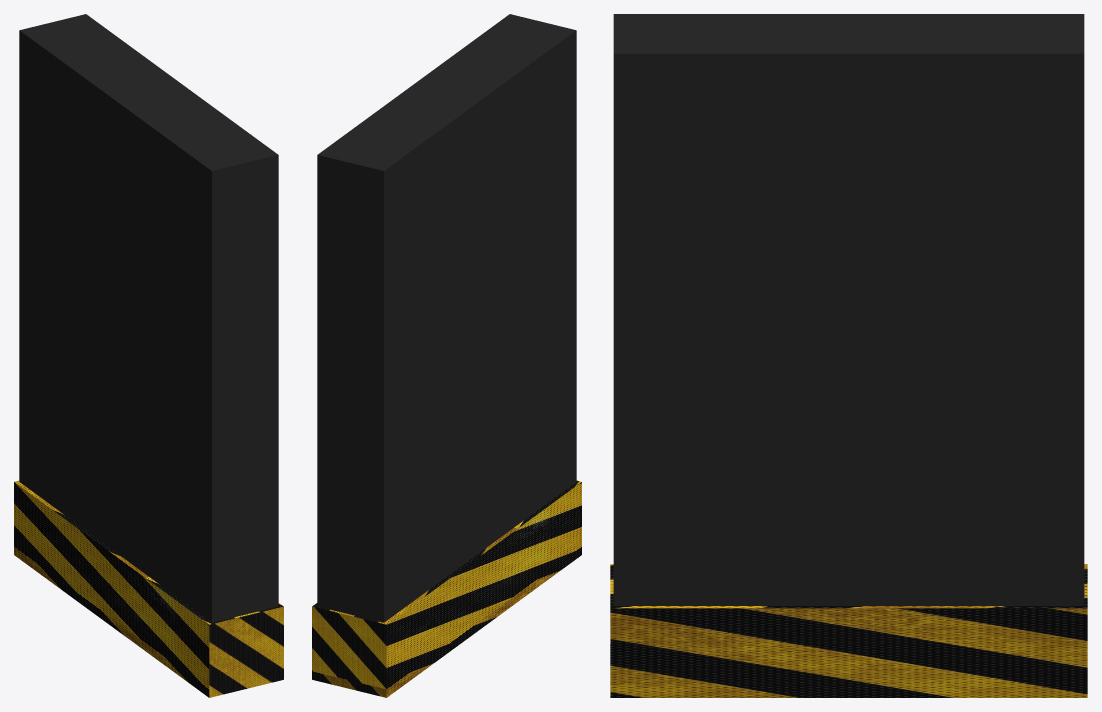
File: Door 1.fbx
3 renders of one model, left to right at view 1: azimuth 30°, elevation 25°; view 2: azimuth 150°, elevation 25°; view 3: azimuth 270°, elevation 25°, orthographic. The views are drawn at different scales.
Visible parts, largest first — view 1: Cube, Cube.001; view 2: Cube, Cube.001; view 3: Cube, Cube.001.
Boxes of the visible parts, x1,y1,x2,y2 form: Cube: (19, 14, 278, 622); Cube.001: (14, 480, 283, 697); Cube: (317, 14, 576, 622); Cube.001: (312, 480, 581, 697); Cube: (613, 14, 1084, 605); Cube.001: (610, 564, 1087, 697).
Size of the model in its own units: 89.6 by 602 by 406.
Materials: 2 (1 with a texture image).
